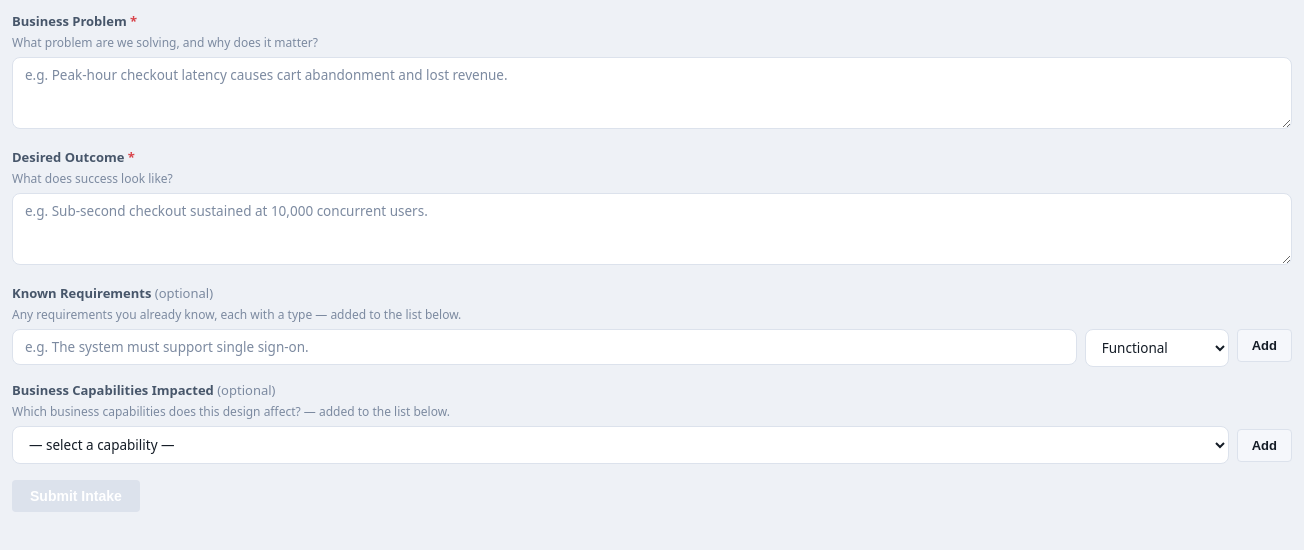
IntakeTextForm Known Requirements typed list › rejects a requirement shorter than 10 characters
Type "too short" into the field with placeholder "e.g. The system must support single sign-on." at (544, 347), box [12,329,1077,365]
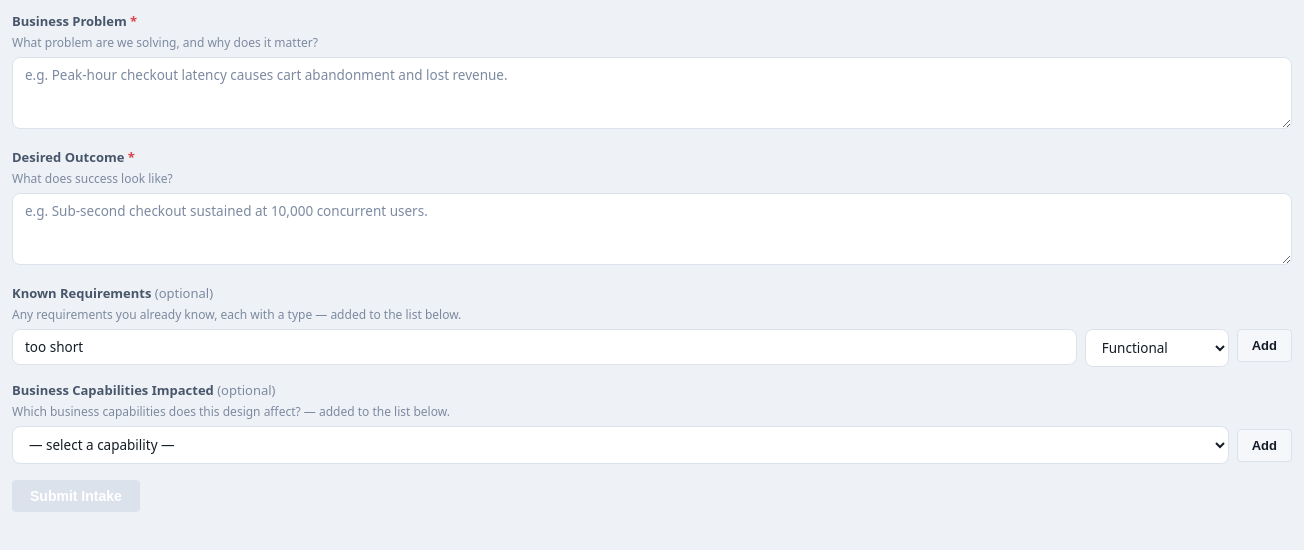
Select "Functional" in the dropdown showing "Functional" at (1157, 348), box [1085,329,1229,367]
Click the 1st button "Add" at (1264, 346), box [1237,329,1292,362]
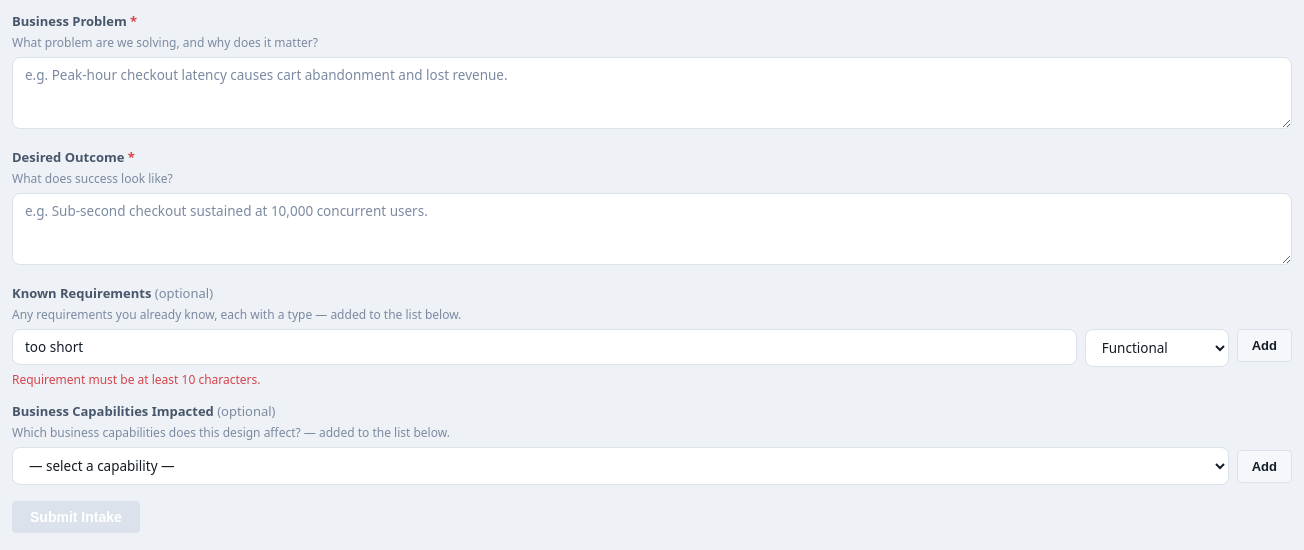
Check: the text "Requirement must be at least 10 characters." is shown, box [12,371,260,388]
